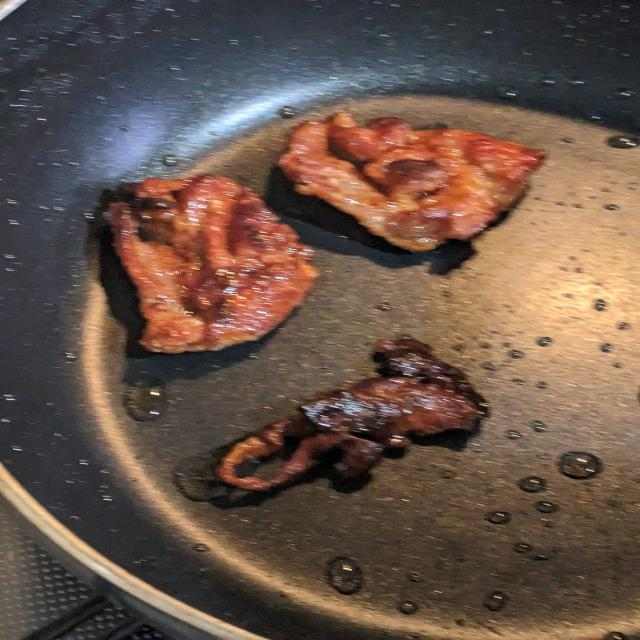overcooked pork: (80, 165, 335, 365), (215, 325, 500, 499), (263, 110, 561, 255)
